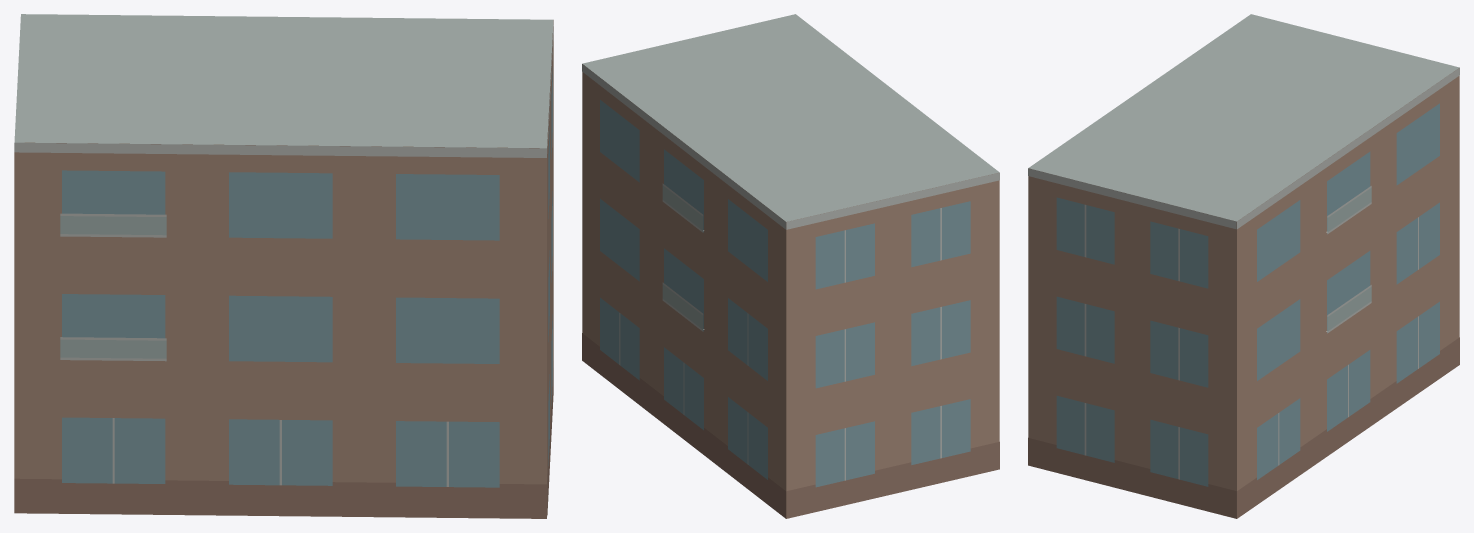
File: survey-upis-32721756.glb
The picture shows the model from 3 angles, left to right: view 1: azimuth 30°, elevation 25°; view 2: azimuth 150°, elevation 25°; view 3: azimuth 270°, elevation 25°; orthographic projection. The views are drawn at different scales.
Parts seen in each view (by area): view 1: survey-upis-32721756.tmp; view 2: survey-upis-32721756.tmp; view 3: survey-upis-32721756.tmp.
Part boxes in pixels (x1,y1,x2,y2): survey-upis-32721756.tmp: (14, 14, 553, 518); survey-upis-32721756.tmp: (582, 14, 999, 518); survey-upis-32721756.tmp: (1028, 14, 1459, 518).
Size of the model in its own units: 13.71 by 9.15 by 12.05.
